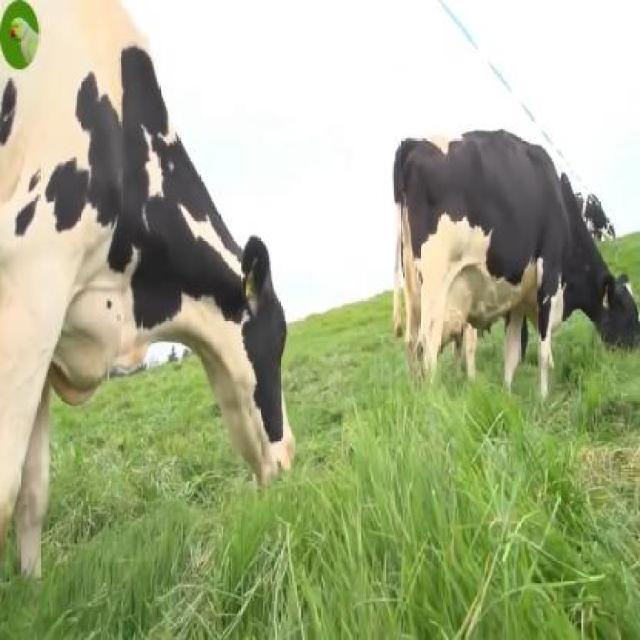Cow: (392, 126, 638, 397)
